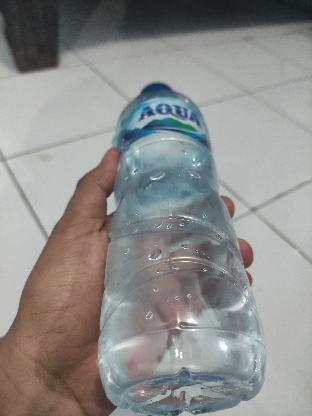Plastic Bottle: (82, 74, 274, 414)
